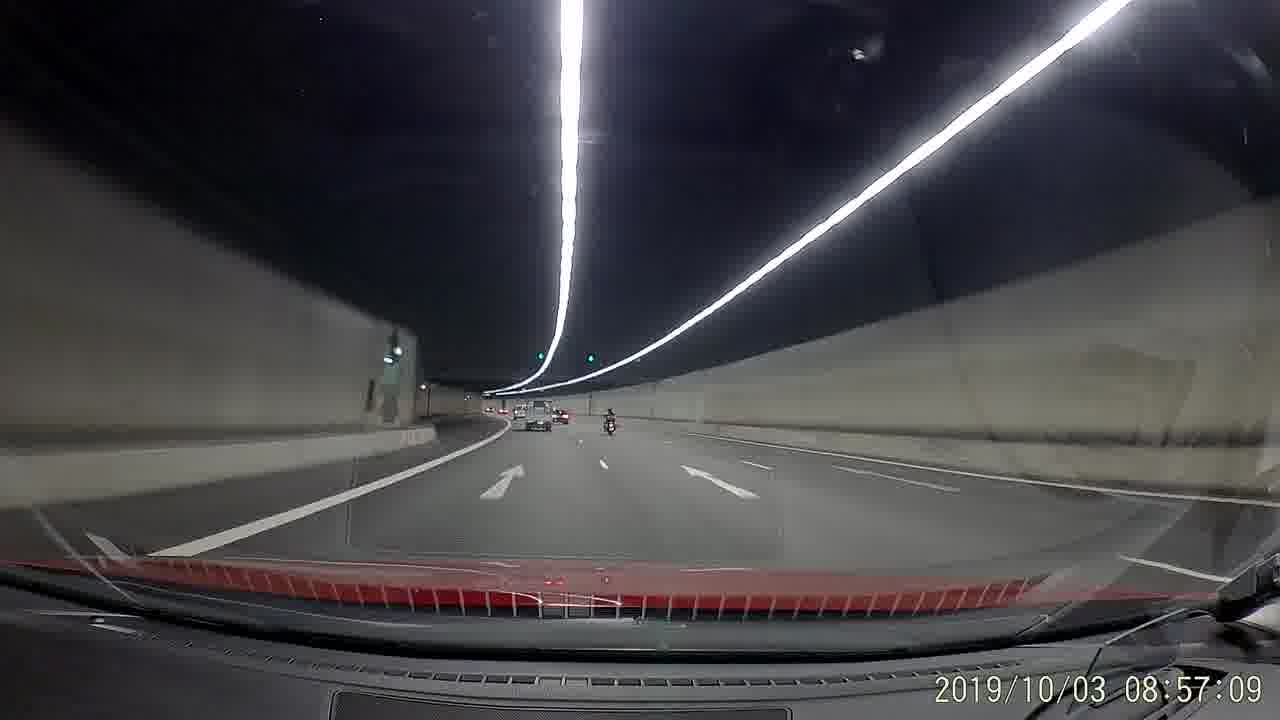car: (552, 407, 571, 425)
